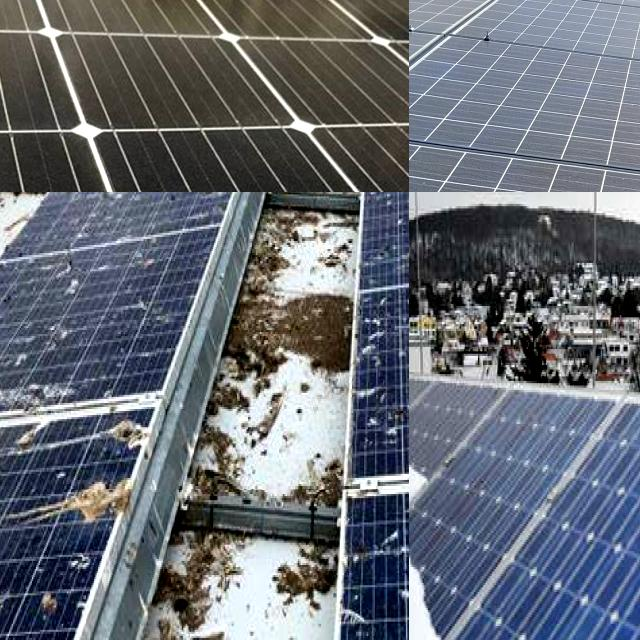bird: (5, 478, 151, 526), (57, 412, 168, 455), (12, 410, 58, 460), (32, 581, 70, 634), (58, 546, 92, 586), (155, 192, 213, 208), (0, 587, 12, 640), (397, 296, 409, 339), (395, 582, 409, 607)
crack: (40, 28, 322, 168), (63, 108, 409, 192), (221, 19, 409, 159), (0, 17, 122, 161), (271, 109, 409, 192)
dust: (461, 56, 576, 148), (528, 2, 626, 43), (409, 153, 497, 192), (597, 90, 640, 160), (409, 80, 455, 139), (409, 0, 450, 23), (409, 40, 433, 77)
panel: (409, 435, 460, 538), (409, 548, 465, 640)
